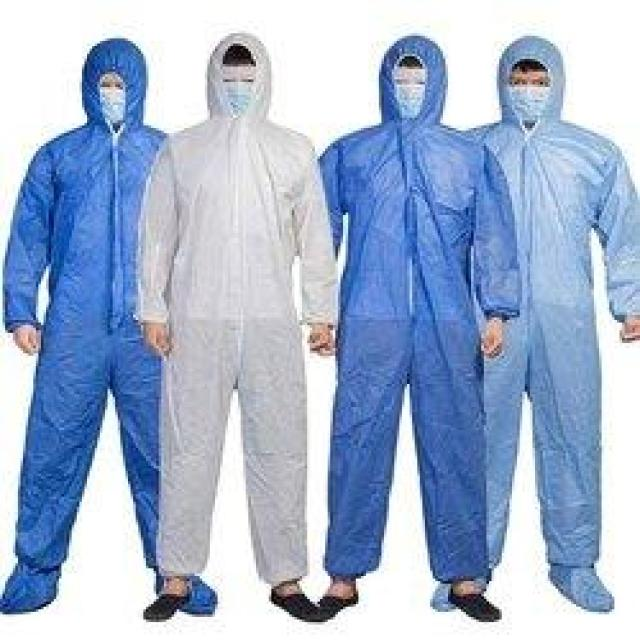Coverall: (136, 26, 338, 625), (313, 31, 510, 627), (3, 31, 182, 625), (463, 34, 640, 620)
Mask: (504, 82, 548, 120), (389, 79, 428, 113), (95, 85, 131, 121), (218, 79, 256, 113)
